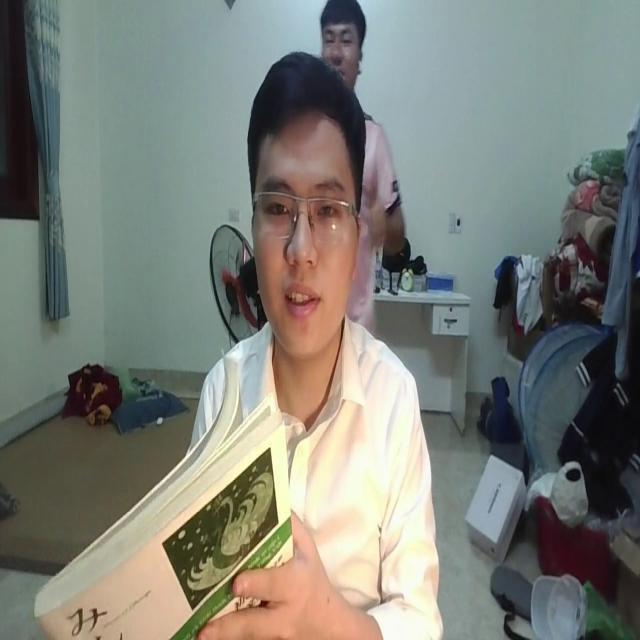book: (33, 346, 294, 640)
extra_person: (319, 7, 412, 322)
student: (184, 53, 444, 640)
